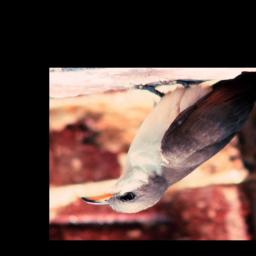Cuckoo: (81, 70, 256, 214)
